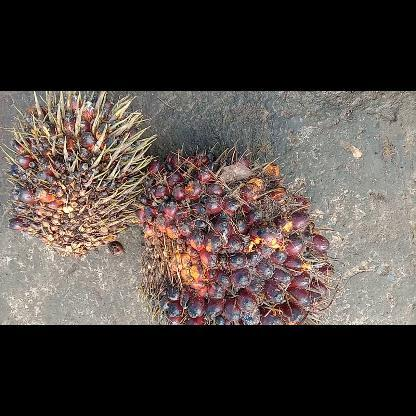Kurang masak: (136, 144, 334, 324)
TBS abnormal: (0, 90, 157, 258)
